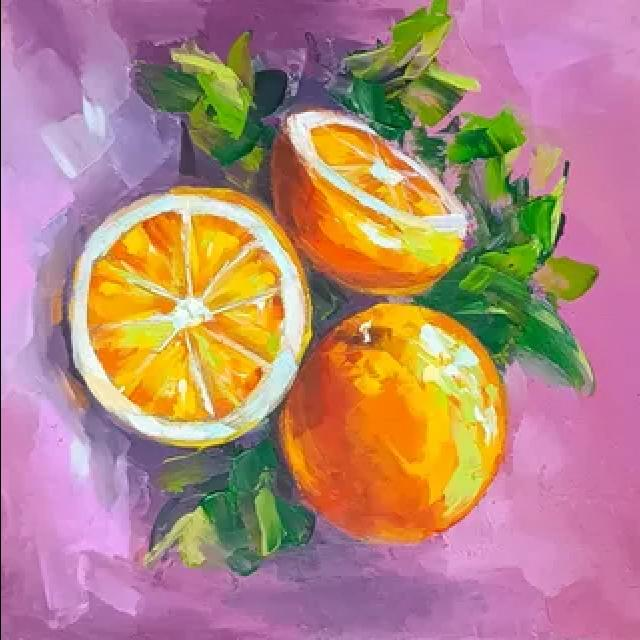orange: (268, 302, 514, 548)
